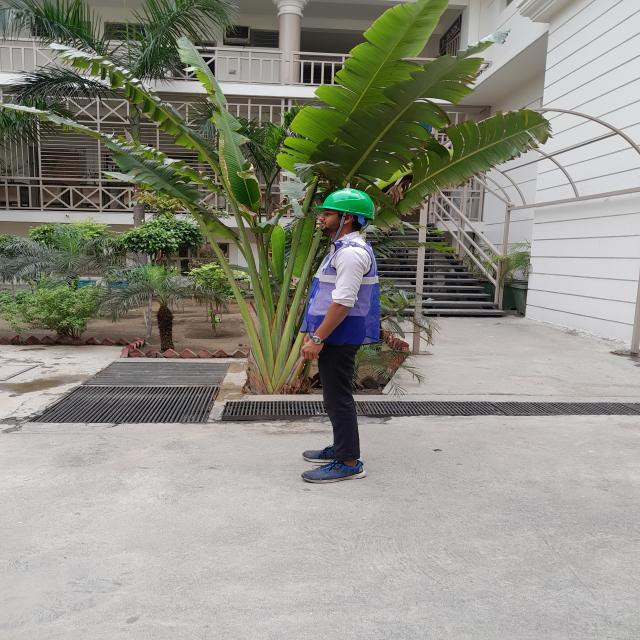safe: (301, 188, 379, 482)
